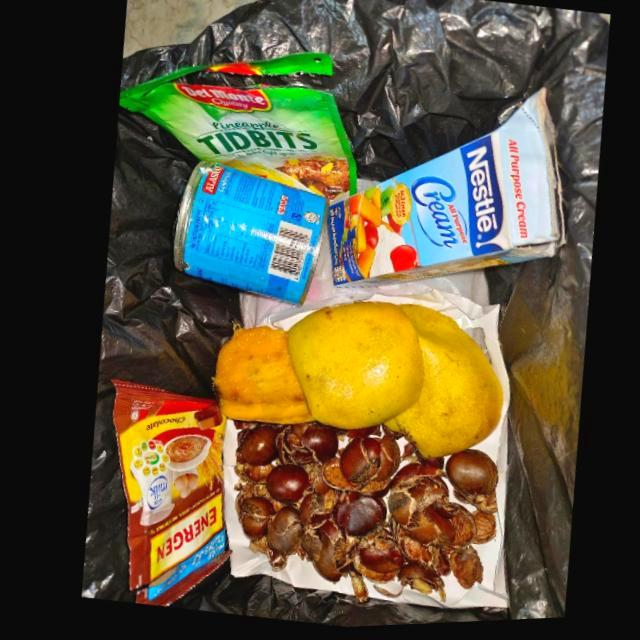aluminum: (169, 162, 324, 309)
food_wrapper: (117, 55, 354, 207)
plastic_sachet: (105, 380, 223, 608)
